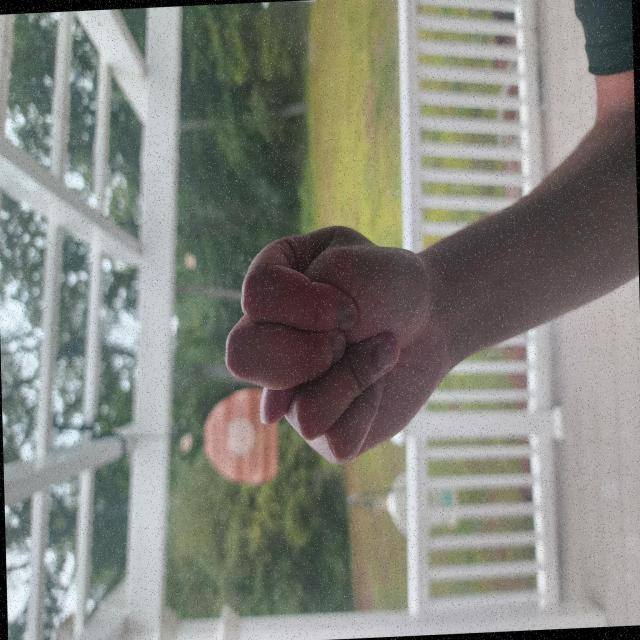N: (125, 292, 326, 620)
